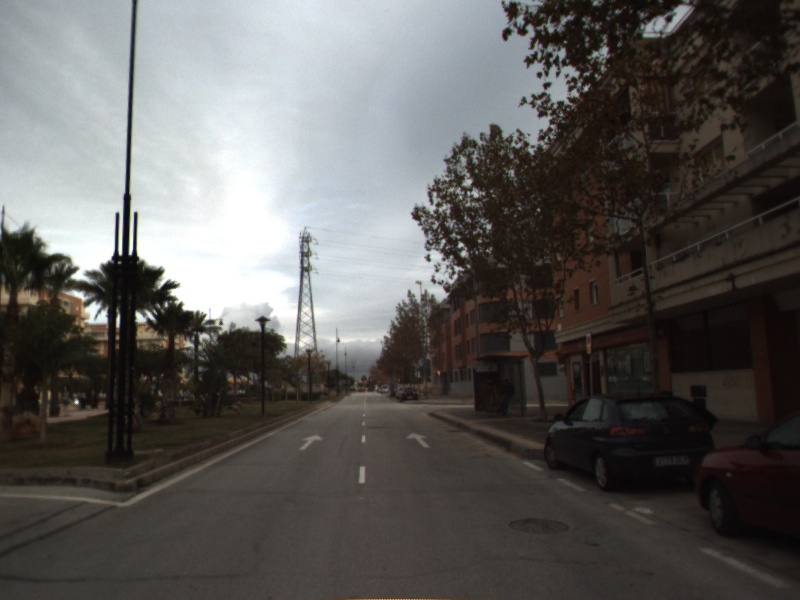STRAIGHT: (297, 432, 326, 452), (404, 431, 432, 449)
